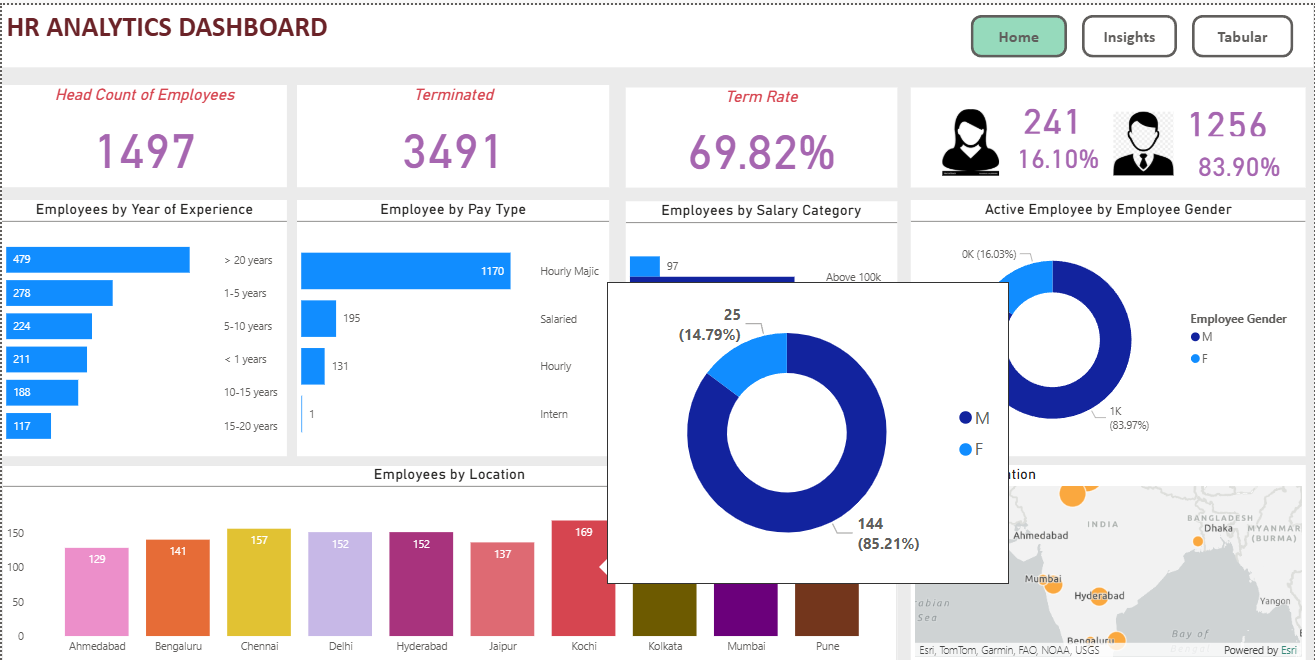

Layout of this report page (visuals, bound fields, positions):
{"tool":"powerbi","page":{"name":"HOME","canvas":[1500,750],"ordinal":4},"visuals":[{"type":"textbox","box":[0,0,1498.6,71.4],"z":0},{"type":"shape","box":[1038.6,94.3,451.4,114.3],"z":0,"group":"g1"},{"type":"card","title":"Male %","fields":{"Values":["Employee.Male count%"]},"box":[1359.8,163.9,108.2,38.1],"z":1000,"group":"g1"},{"type":"card","title":"Head Count of Employees","fields":{"Values":["Employee.Emp Count"]},"box":[0,91.4,325.7,117.1],"z":1000},{"type":"card","title":"Male Count","fields":{"Values":["Employee.Male Count"]},"box":[1342.5,109.5,113.9,44.7],"z":2000,"group":"g1"},{"type":"card","title":"Terminated ","fields":{"Values":["Employee.Term_Emp Count"]},"box":[337.1,91.4,357.1,117.1],"z":2000},{"type":"card","title":"Female %","fields":{"Values":["Employee.Female count%"]},"box":[1152.1,146.3,111.1,55.2],"z":3000,"group":"g1"},{"type":"card","title":"Term Rate","fields":{"Values":["Employee.Termination Rate"]},"box":[712.9,94.3,310,114.3],"z":3000},{"type":"card","title":"Female Count","fields":{"Values":["Employee.Female Count"]},"box":[1157.7,106.9,86.5,44.7],"z":4000,"group":"g1"},{"type":"image","box":[1256.2,116.4,98.1,82.8],"z":5000,"group":"g1"},{"type":"image","box":[1044.8,114,124.8,85.6],"z":6000,"group":"g1"},{"type":"group","id":"g1","title":"Group 1","box":[1038.6,94.3,451.4,114.3],"z":6000},{"type":"barChart","title":"Employees by Year of Experience","fields":{"Category":["Employee.YOE Bucket"],"Y":["Employee.Emp Count"]},"box":[0,222.9,325.7,292.9],"z":7000},{"type":"barChart","title":"Employee by Pay Type","fields":{"Category":["Employee.Pay Type Name"],"Y":["Employee.Emp Count"]},"box":[337.1,222.9,357.1,292.9],"z":8000},{"type":"clusteredBarChart","title":"Employees by Salary Category","fields":{"Y":["Employee.Emp Count"],"Category":["Employee.Salary Bucket"],"Series":["Employee.Employee Gender"]},"box":[712.9,224.3,310,292.9],"z":9000},{"type":"donutChart","fields":{"Y":["Employee.Active Employee"],"Category":["Employee.Employee Gender"]},"box":[1038.6,222.9,451.4,292.9],"z":10000},{"type":"columnChart","title":"Employees by Location","fields":{"Category":["Employee.Location","Employee.HK Job Function"],"Y":["Employee.Emp Count"]},"box":[0,525.7,1022.9,224.3],"z":11000},{"type":"esriVisual","title":" Salary by Location","fields":{"Size":["Sum(Employee.Salary)"],"Location":["Employee.Location"]},"box":[1038.6,525.7,451.4,224.3],"z":12000},{"type":"actionButton","box":[1107.1,11.4,110,48.6],"z":13000},{"type":"actionButton","box":[1234.3,11.4,108.6,48.6],"z":14000},{"type":"actionButton","box":[1360,11.4,115.7,48.6],"z":15000}]}

Visuals, with their boxes in screenshot pixels (x1, y1, x2, y2), scaled from the page's 1500x750 canvas onto the 1315x660 screenshot:
textbox: {"left": 0, "top": 0, "right": 1314, "bottom": 63}
shape: {"left": 911, "top": 83, "right": 1306, "bottom": 184}
"Male %" card: {"left": 1192, "top": 144, "right": 1287, "bottom": 178}
"Head Count of Employees" card: {"left": 0, "top": 80, "right": 286, "bottom": 183}
"Male Count" card: {"left": 1177, "top": 96, "right": 1277, "bottom": 136}
"Terminated " card: {"left": 296, "top": 80, "right": 609, "bottom": 183}
"Female %" card: {"left": 1010, "top": 129, "right": 1107, "bottom": 177}
"Term Rate" card: {"left": 625, "top": 83, "right": 897, "bottom": 184}
"Female Count" card: {"left": 1015, "top": 94, "right": 1091, "bottom": 133}
image: {"left": 1101, "top": 102, "right": 1187, "bottom": 175}
image: {"left": 916, "top": 100, "right": 1025, "bottom": 176}
"Group 1" group: {"left": 911, "top": 83, "right": 1306, "bottom": 184}
"Employees by Year of Experience" barChart: {"left": 0, "top": 196, "right": 286, "bottom": 454}
"Employee by Pay Type" barChart: {"left": 296, "top": 196, "right": 609, "bottom": 454}
"Employees by Salary Category" clusteredBarChart: {"left": 625, "top": 197, "right": 897, "bottom": 455}
donutChart - Employee.Active Employee x Employee.Employee Gender: {"left": 911, "top": 196, "right": 1306, "bottom": 454}
"Employees by Location" columnChart: {"left": 0, "top": 463, "right": 897, "bottom": 659}
" Salary by Location" esriVisual: {"left": 911, "top": 463, "right": 1306, "bottom": 659}
actionButton: {"left": 971, "top": 10, "right": 1067, "bottom": 53}
actionButton: {"left": 1082, "top": 10, "right": 1177, "bottom": 53}
actionButton: {"left": 1192, "top": 10, "right": 1294, "bottom": 53}
